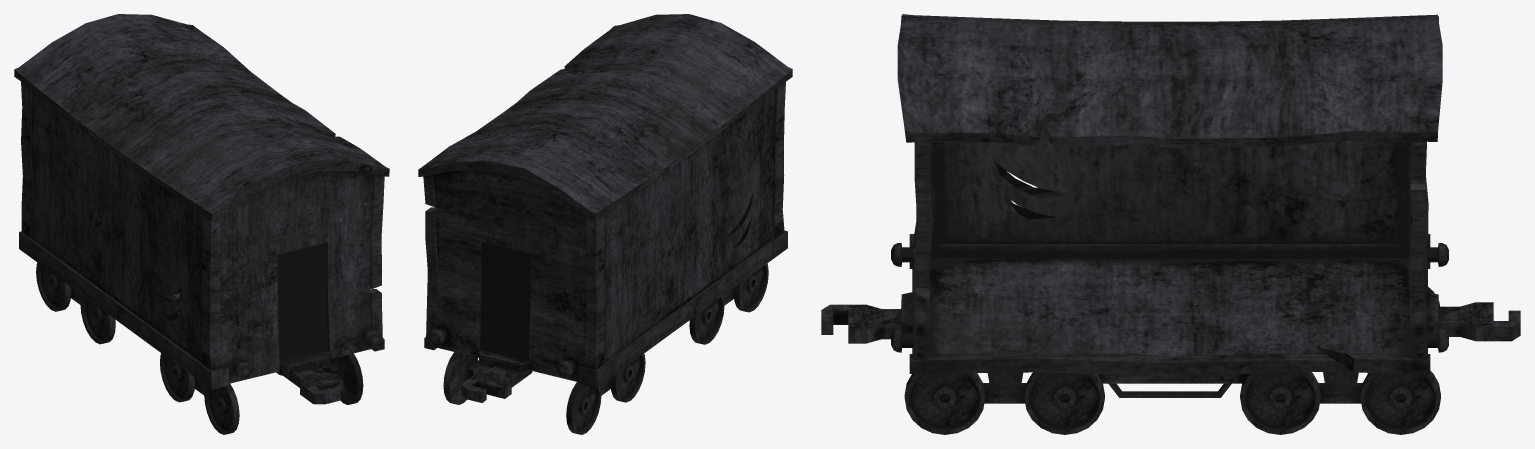
Rendered from SM_Wagon_Destroyed_1.fbx.
3 views of the same model, side by side, from view 1: azimuth 30°, elevation 25°; view 2: azimuth 150°, elevation 25°; view 3: azimuth 270°, elevation 25° (orthographic). The views are drawn at different scales.
Visible parts, largest first — view 1: SM_Wagon_Hull_Destroy_1, Door_Left, Wheel_Back_Left.004, Wheel_Back_MidRight.003, Wheel_Back_Right.004, Wheel_Front_Left.004, Wheel_Back_MidLeft; view 2: SM_Wagon_Hull_Destroy_1, Door_Right, Wheel_Back_Right.004, Wheel_Front_Right.004, Wheel_Back_MidRight.003, Wheel_Back_MidLeft, Wheel_Back_Left.004; view 3: SM_Wagon_Hull_Destroy_1, Wheel_Front_MidRight.003, Wheel_Front_MidLeft.003, Wheel_Front_Left.004, Wheel_Front_Right.004.
Boxes of the visible parts, bbox=[...] form: SM_Wagon_Hull_Destroy_1: bbox=[14, 14, 389, 404]; Door_Left: bbox=[277, 242, 327, 362]; Wheel_Back_Left.004: bbox=[204, 383, 239, 434]; Wheel_Back_MidRight.003: bbox=[80, 295, 115, 344]; Wheel_Back_Right.004: bbox=[36, 262, 71, 311]; Wheel_Front_Left.004: bbox=[329, 353, 363, 404]; Wheel_Back_MidLeft: bbox=[160, 353, 195, 402]; SM_Wagon_Hull_Destroy_1: bbox=[418, 14, 792, 402]; Door_Right: bbox=[480, 242, 530, 361]; Wheel_Back_Right.004: bbox=[566, 382, 601, 434]; Wheel_Front_Right.004: bbox=[443, 352, 478, 404]; Wheel_Back_MidRight.003: bbox=[610, 354, 645, 402]; Wheel_Back_MidLeft: bbox=[689, 296, 724, 344]; Wheel_Back_Left.004: bbox=[733, 263, 768, 312]; SM_Wagon_Hull_Destroy_1: bbox=[821, 14, 1520, 403]; Wheel_Front_MidRight.003: bbox=[1240, 371, 1320, 434]; Wheel_Front_MidLeft.003: bbox=[1024, 372, 1104, 434]; Wheel_Front_Left.004: bbox=[904, 373, 985, 434]; Wheel_Front_Right.004: bbox=[1360, 371, 1440, 434].
Size of the model in its own units: 212 by 300 by 531.
